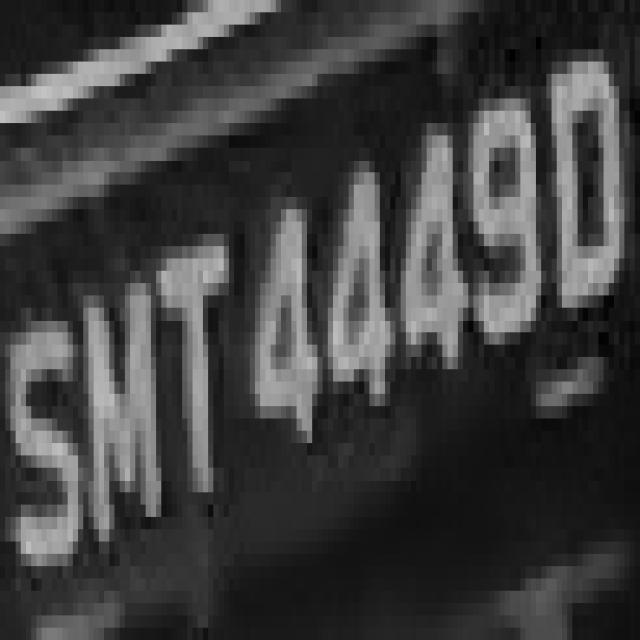4: (374, 86, 474, 406), (296, 135, 396, 443), (229, 184, 323, 456)
9: (458, 74, 546, 381)
D: (520, 24, 630, 344)
M: (78, 246, 167, 566)
S: (0, 282, 88, 615)
T: (141, 197, 234, 517)
